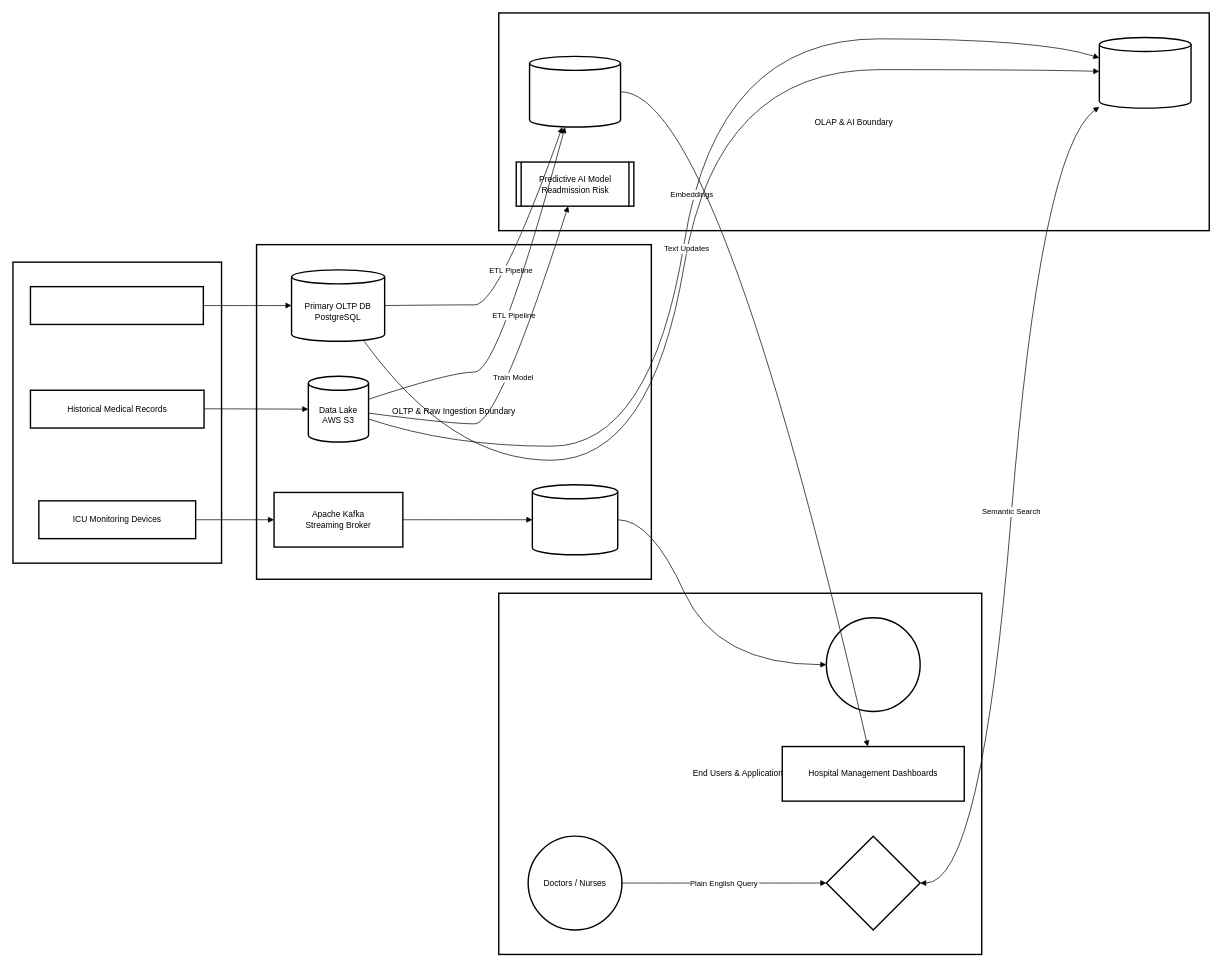
The diagram is 1222 pixels wide and 967 high, and some of its shapes have lost their labels. The centre of each missing label's shape, as x and y in pixels:
Data Warehouse Snowflake: the point at 574,91
Hospital EMR / Admissions: the point at 116,305
ICU Alert System: the point at 872,664
LLM Engine: the point at 872,882
Time-Series DB InfluxDB: the point at 574,519
Vector Database pgvector: the point at 1144,72
